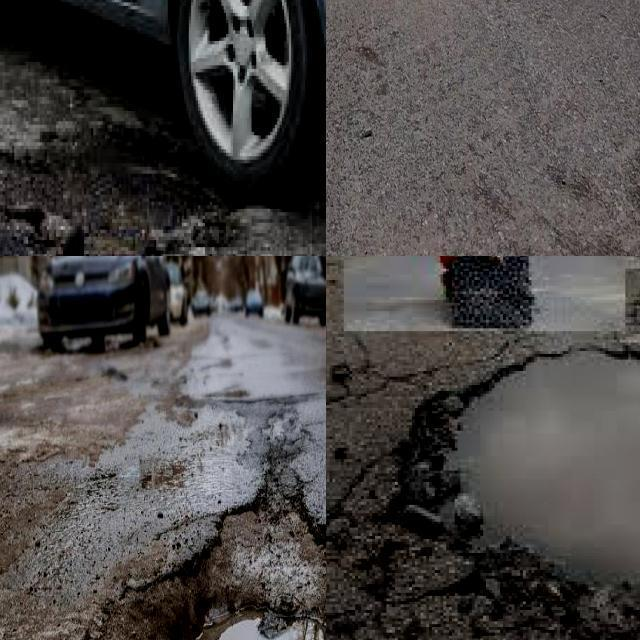Pothole: (421, 351, 640, 590), (0, 118, 245, 256), (105, 490, 326, 640)
